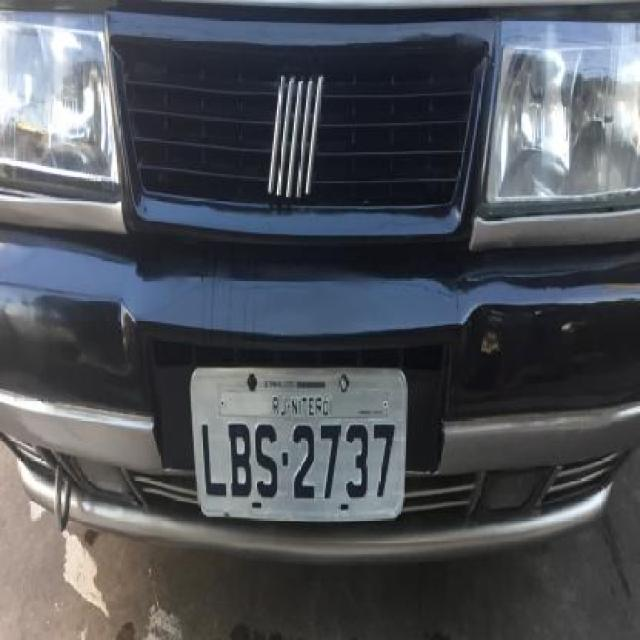old_plate: (183, 357, 414, 527)
